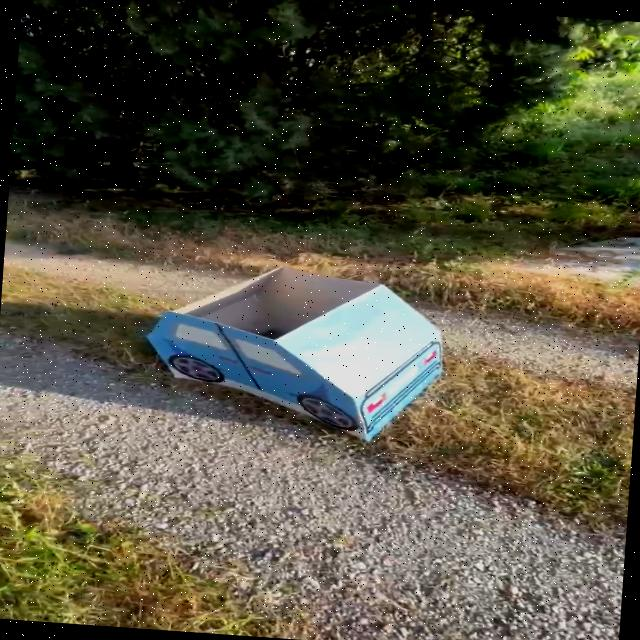blue_car: (101, 239, 479, 468)
